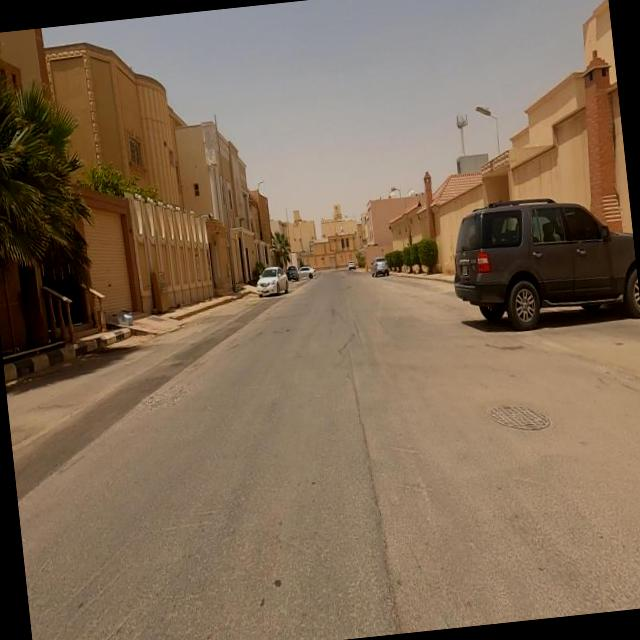debris: (89, 282, 158, 356)
